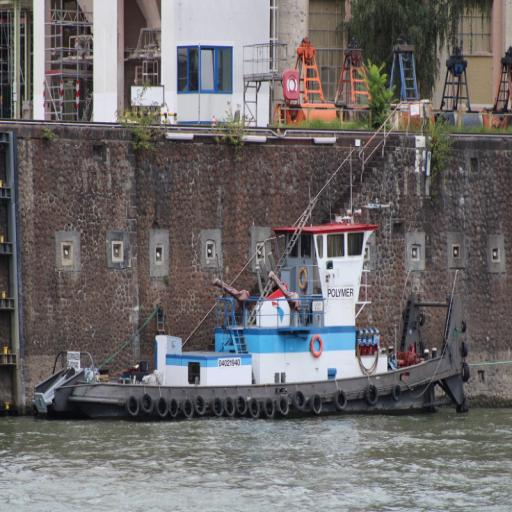tugboat: (27, 211, 477, 421)
